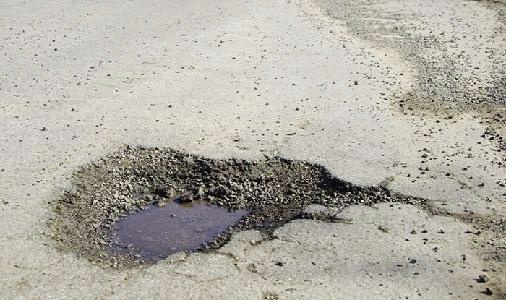pothole: (44, 142, 377, 270)
